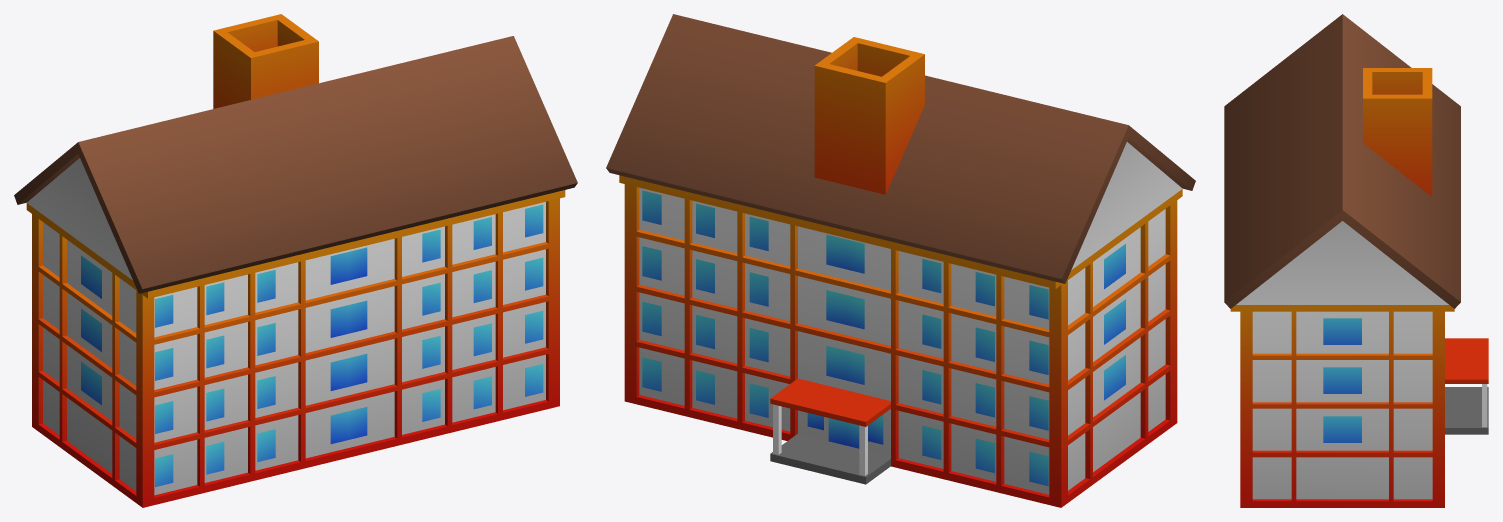
File: Gedung Asrama.fbx
The picture shows the model from 3 angles, left to right: view 1: azimuth 30°, elevation 25°; view 2: azimuth 150°, elevation 25°; view 3: azimuth 270°, elevation 25°; orthographic projection. The views are drawn at different scales.
Visible parts, largest first — view 1: Asrama; view 2: Asrama; view 3: Asrama.
Boxes of the visible parts, x1,y1,x2,y2 form: Asrama: (14,14,577,507); Asrama: (606,14,1195,507); Asrama: (1224,14,1488,507).
Bounding box in the file's own units: 952 × 749 × 543.
1 material, 1 textured.
